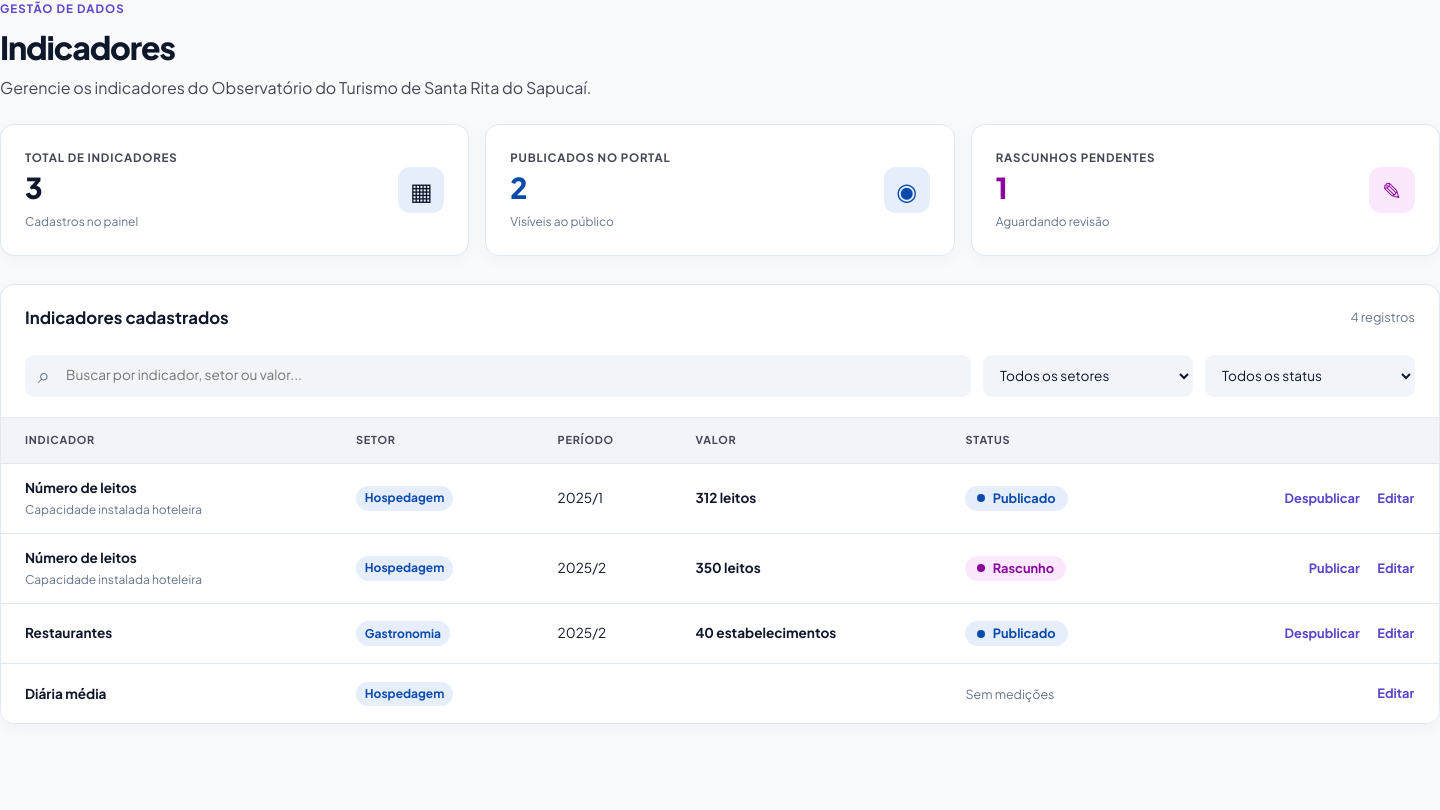
Scenario: AdminPage › publicação › tira a mensagem ao usar Filtrar por setor
Click the button with aria-label "Publicar Número de leitos, 2025/2". click: (1334, 568)
box: [1300,553,1368,584]
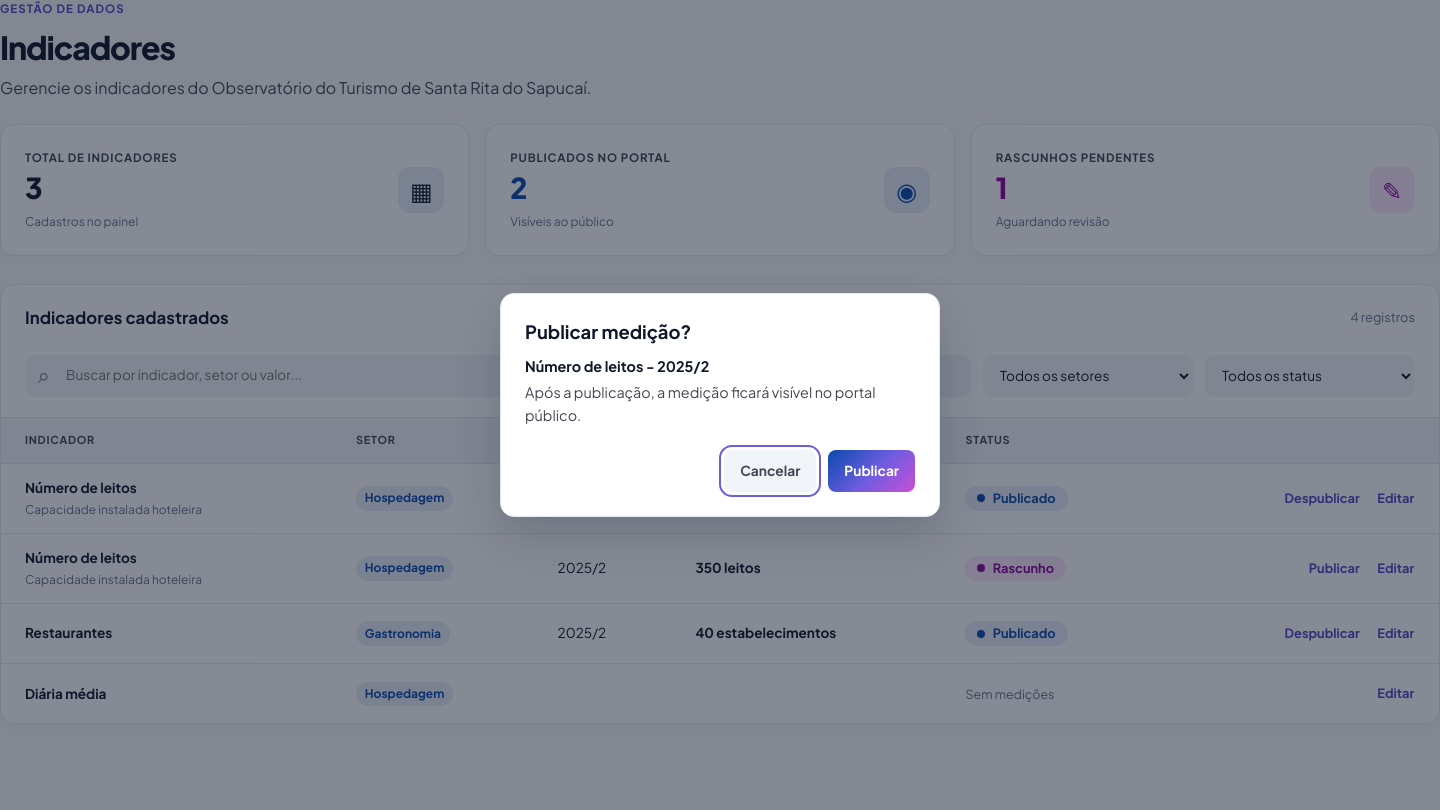
Click the button "Publicar". click: (872, 471)
box: [828,450,915,492]
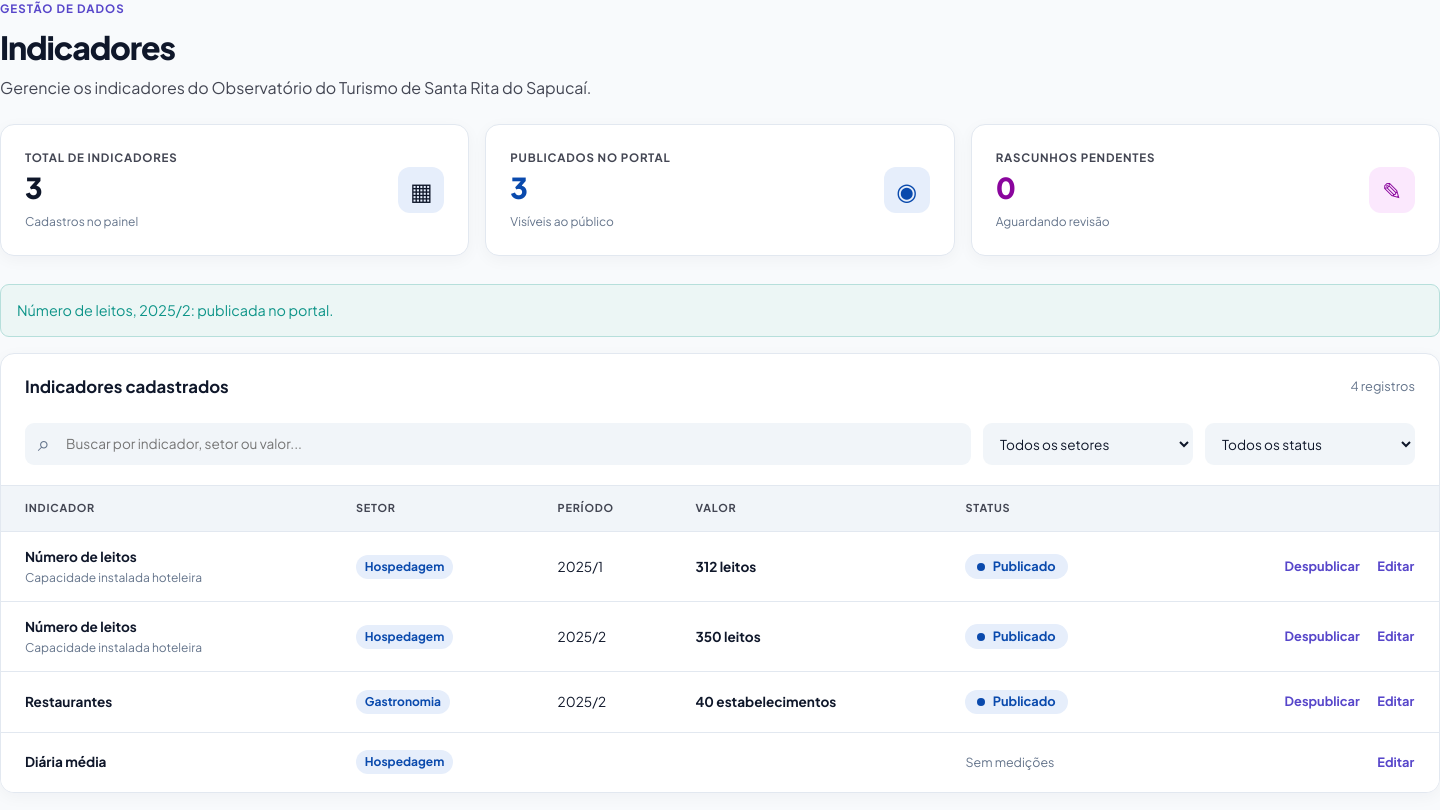
Expected: the text "Número de leitos, 2025/2: publicada no portal." is shown, [0,284,1439,337]
Select "Hospedagem" in the dropdown named "Filtrar por setor". click: (1088, 444)
box: [983,423,1193,465]
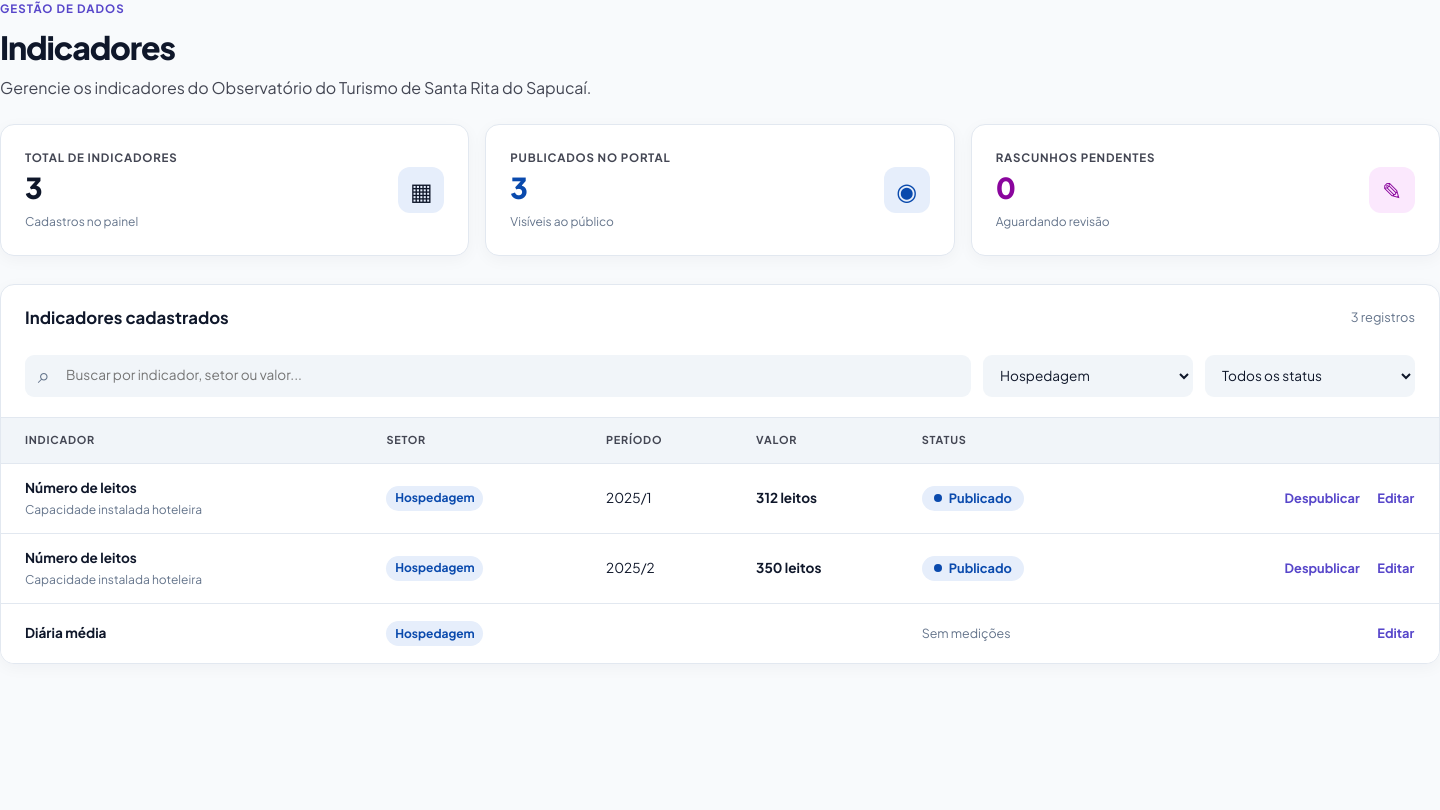
Expected: the text "Número de leitos, 2025/2: publicada no portal." is gone
